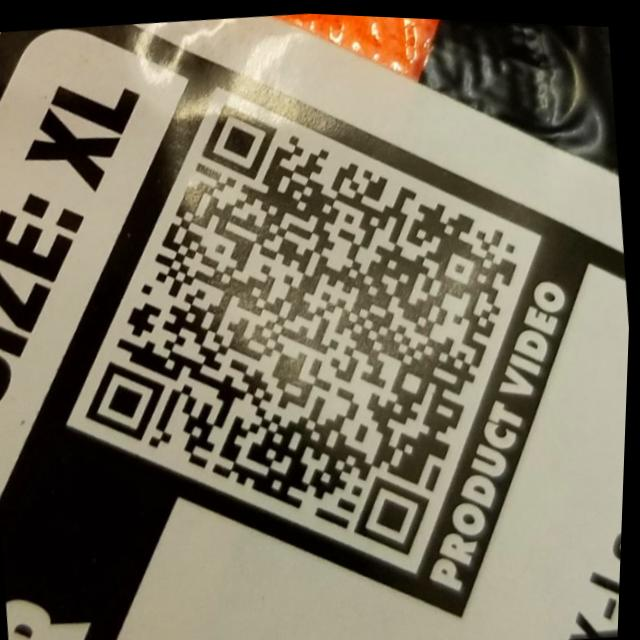QR_CODE: (38, 50, 570, 598)
